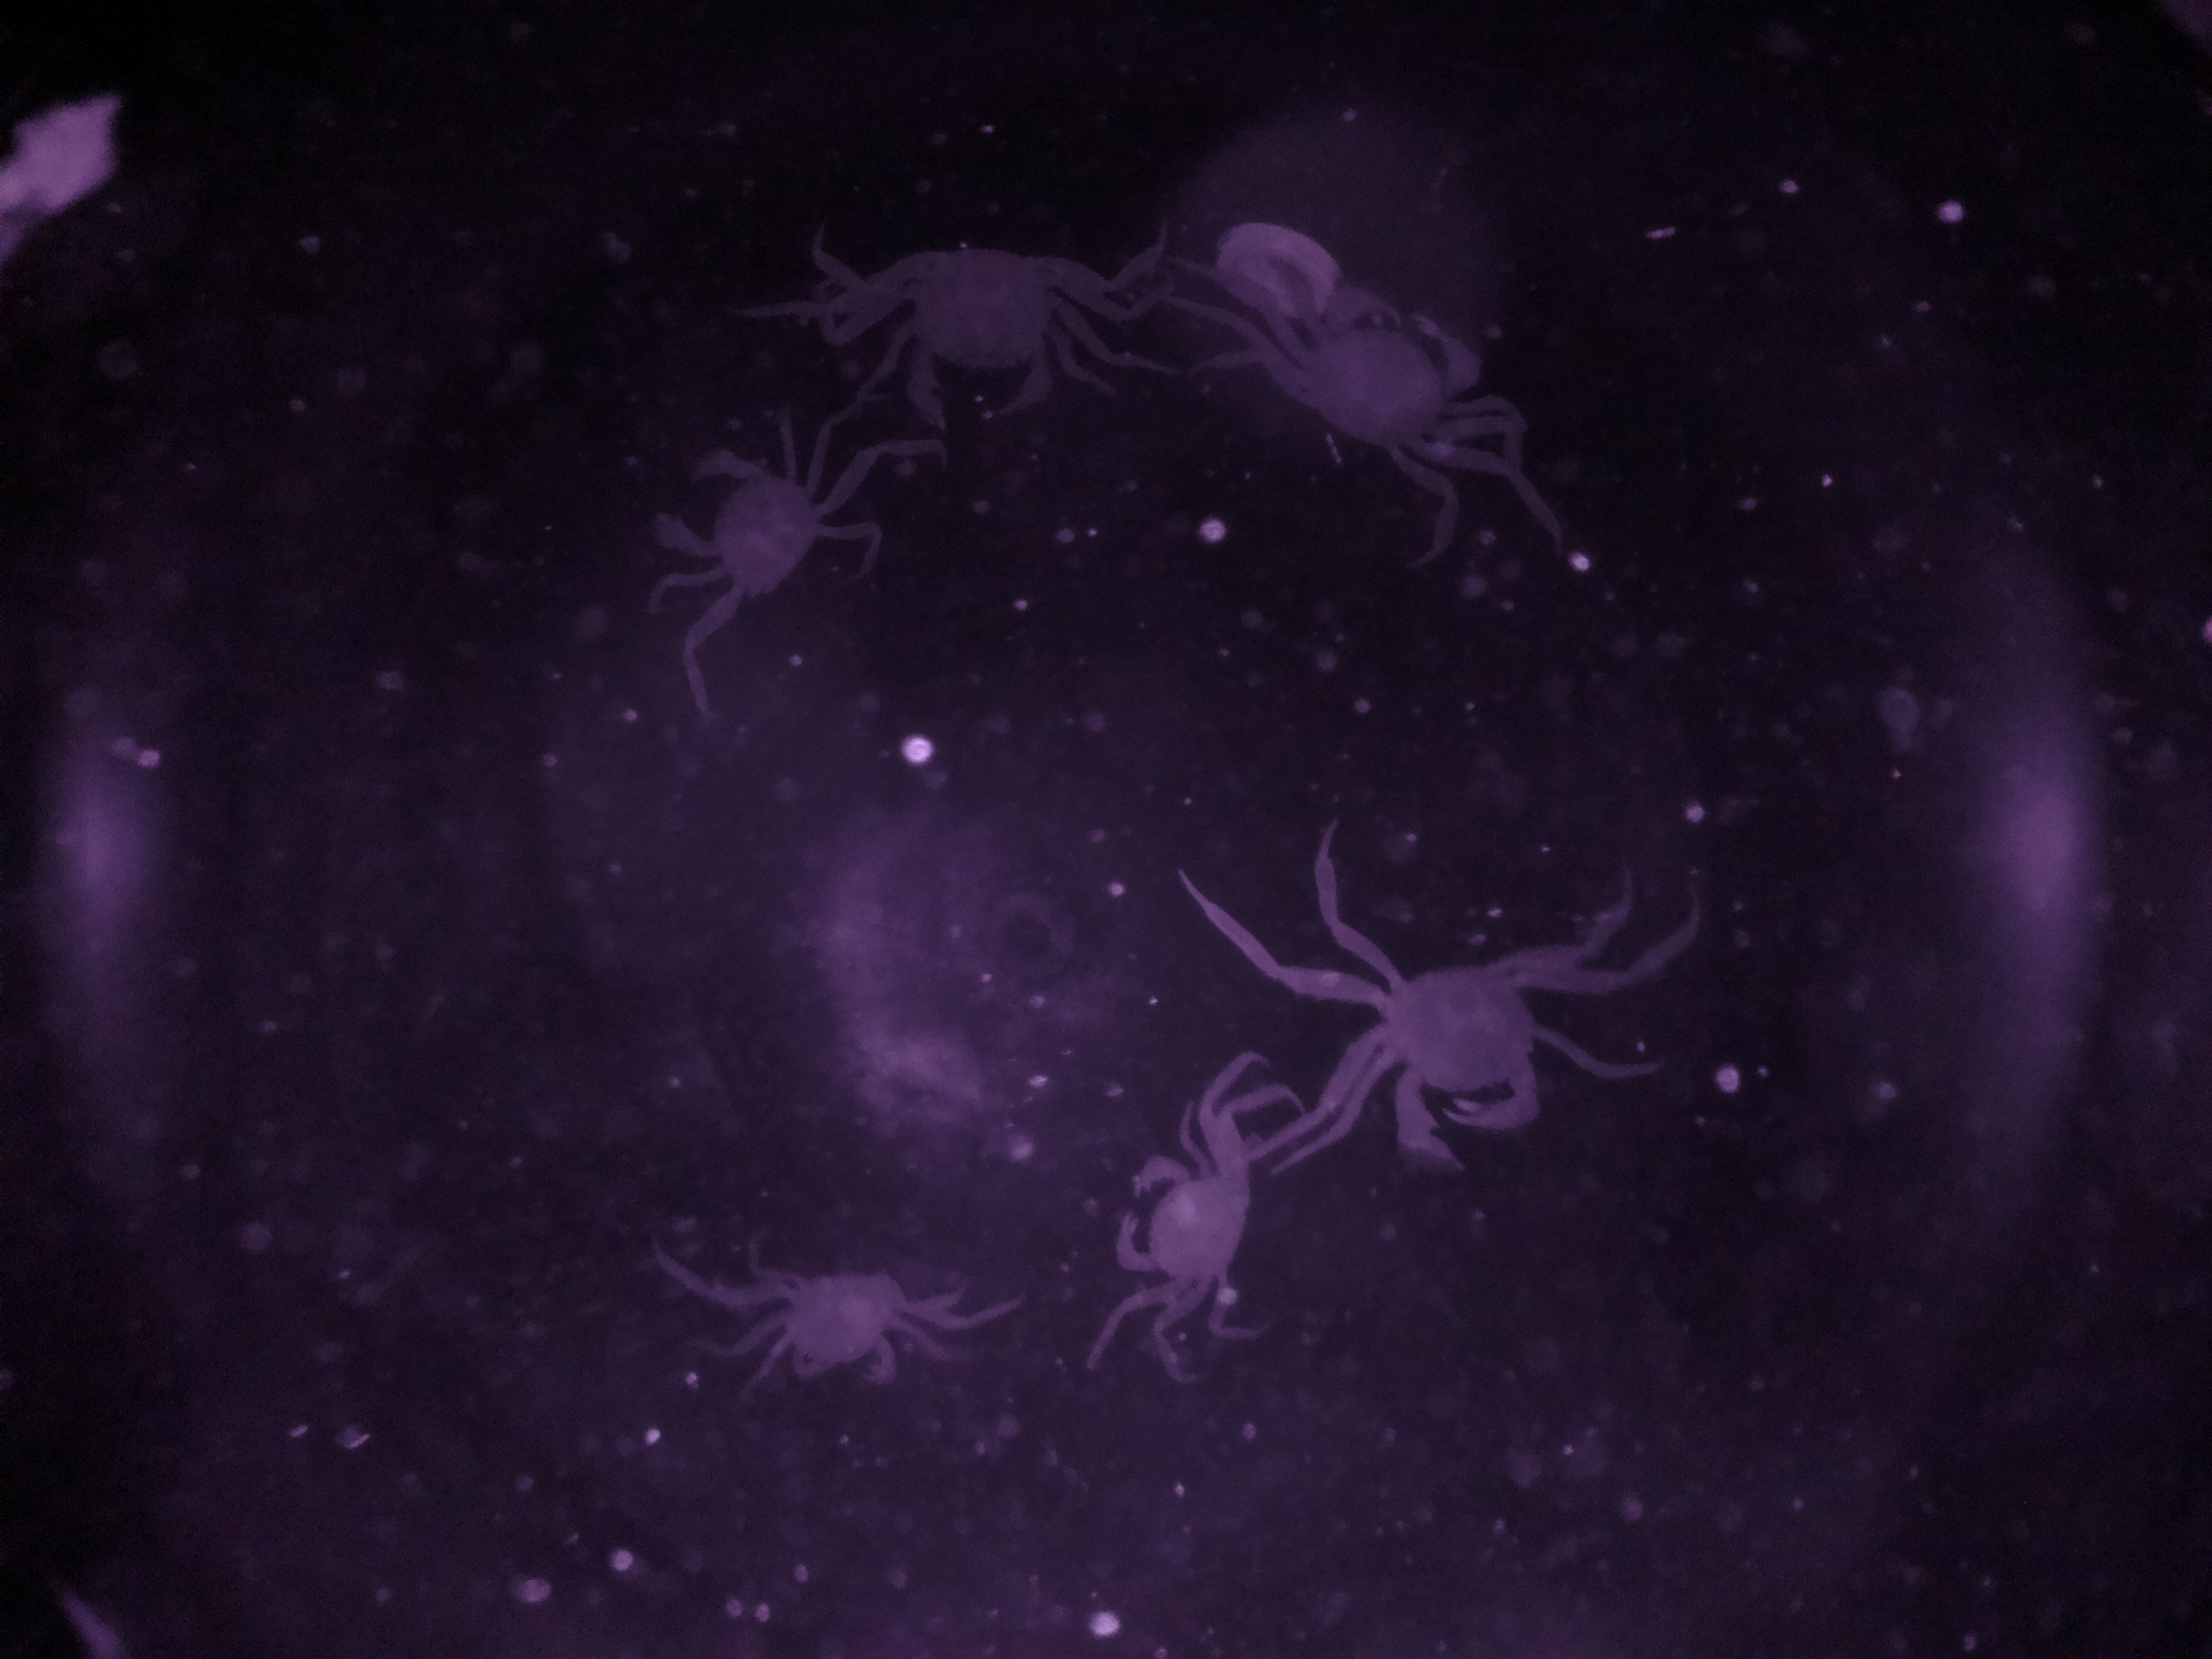Crab: (831, 199, 1157, 469), (1310, 917, 1623, 1187), (1219, 260, 1512, 495), (637, 429, 878, 652), (716, 1229, 970, 1422), (1104, 1108, 1289, 1356)
